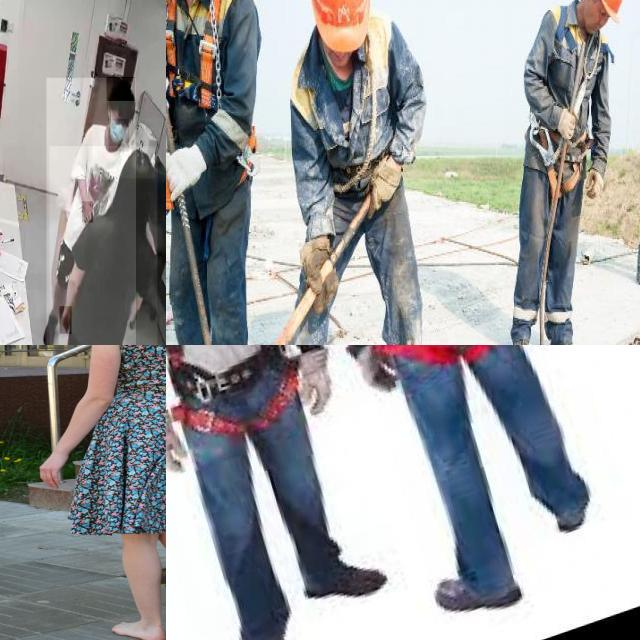Barefoots: (111, 621, 166, 640)
boots: (549, 321, 585, 345), (508, 330, 538, 345), (633, 260, 640, 294)
face_mask: (109, 118, 129, 152)
hand_glove: (356, 146, 406, 218), (296, 236, 343, 310), (166, 146, 210, 208), (550, 104, 581, 149), (578, 161, 608, 203)
hand_noglove: (60, 306, 72, 335), (82, 202, 94, 224)
head_helmet: (301, 0, 373, 54), (581, 0, 631, 16)
head_nohelmet: (121, 148, 155, 194), (106, 77, 136, 102)
person: (269, 0, 438, 345), (495, 0, 634, 345), (166, 0, 256, 345), (46, 77, 135, 345), (49, 146, 158, 345)
